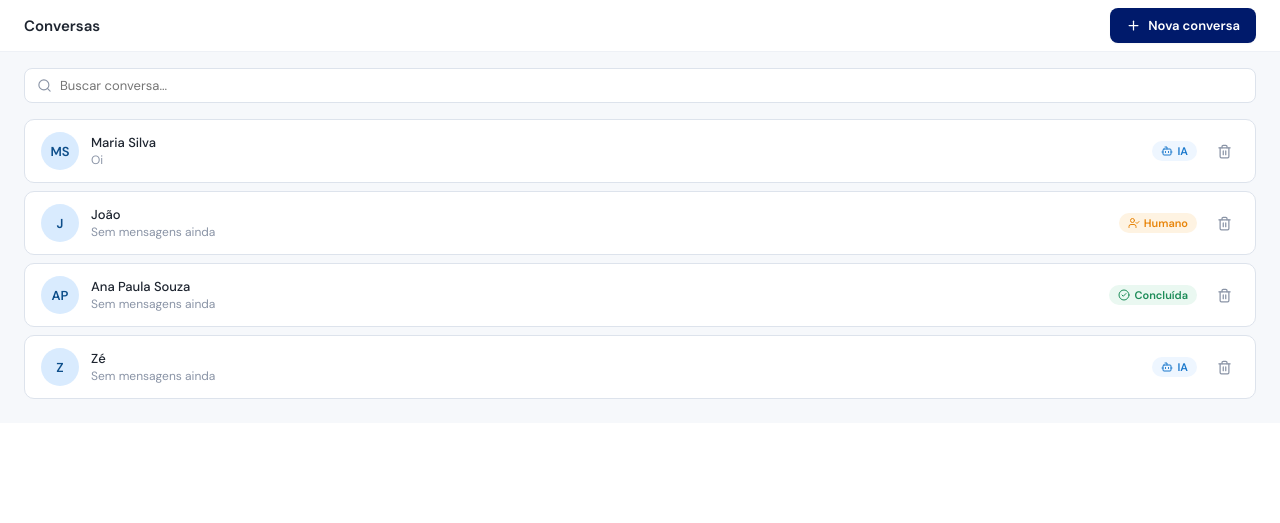
it: ListaConversas › mostra o erro quando a criação falha
This screenshot has width=1280, height=523.
Expected: the text "Maria Silva" is shown, [91, 134, 156, 151]
Click the button "Nova conversa": (1183, 26) [1110, 8, 1256, 43]
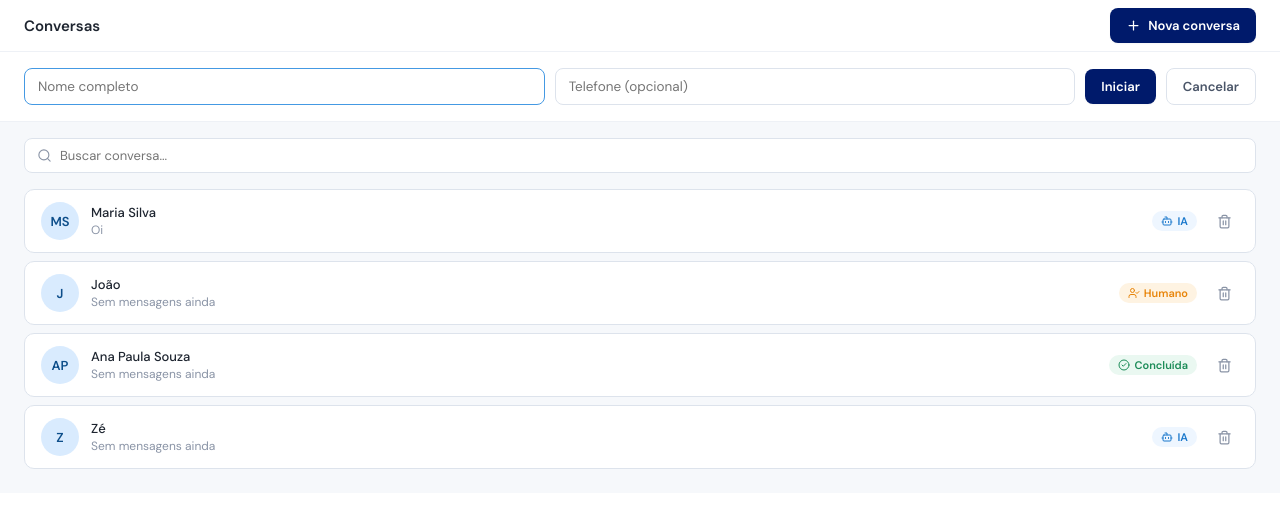
In the field with placeholder "Nome completo": (284, 86) [24, 68, 545, 105], type "Carla Dias"
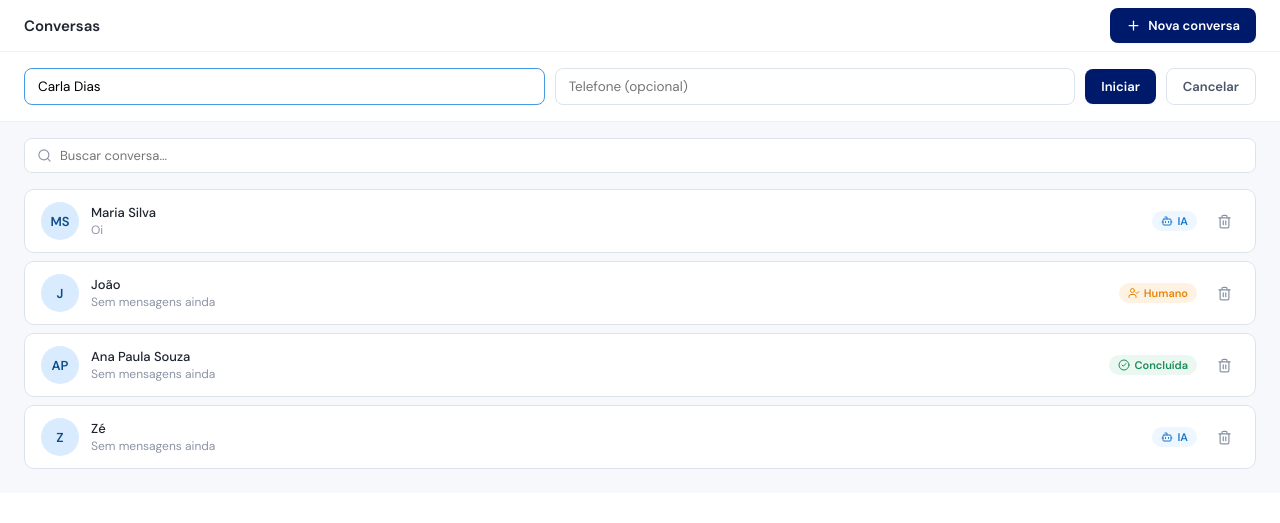
Click the button "Iniciar": (1121, 86) [1085, 69, 1156, 104]
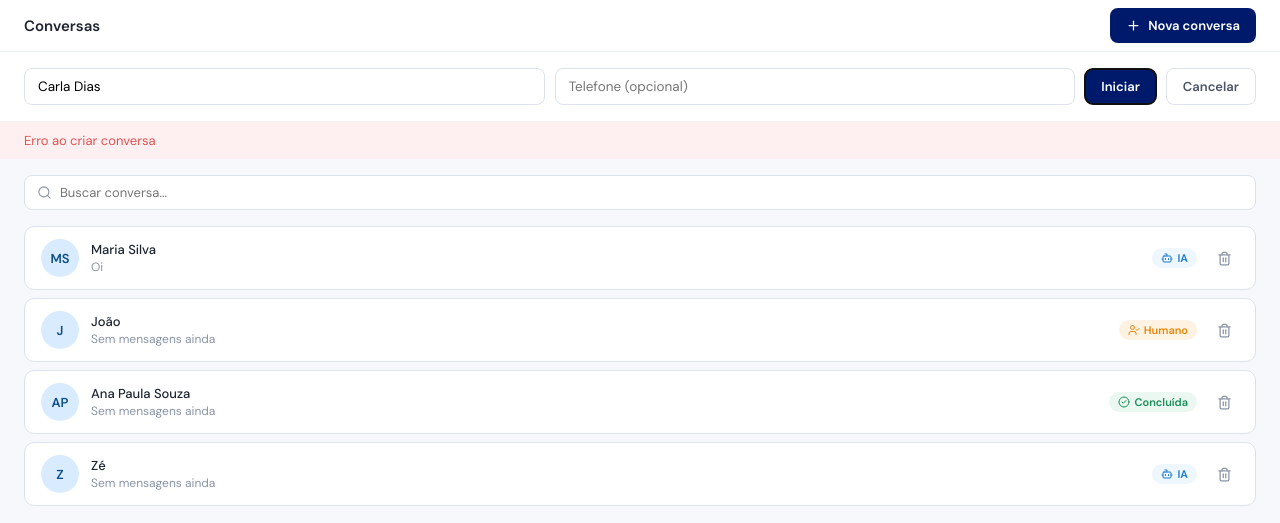
Expected: the text "Erro ao criar conversa" is shown, [0, 122, 1279, 159]
